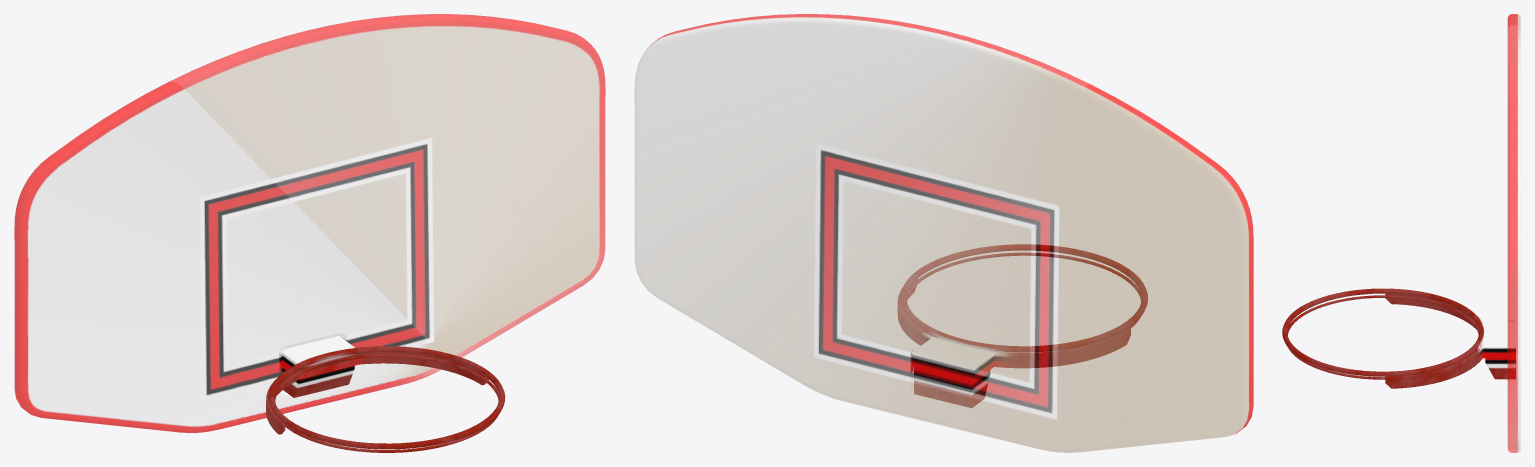
The model's file is hoop-webp.glb.
3 views of the same model, side by side, from view 1: azimuth 30°, elevation 25°; view 2: azimuth 150°, elevation 25°; view 3: azimuth 270°, elevation 25° (orthographic). The views are drawn at different scales.
Parts seen in each view (by area): view 1: backboard_mesh, rim_mesh, rim_mount_mesh, mount_bottom_mesh; view 2: backboard_mesh, rim_mount_mesh, rim_mesh, mount_bottom_mesh; view 3: backboard_mesh, rim_mesh, rim_mount_mesh, mount_bottom_mesh.
Boxes of the visible parts, x1,y1,x2,y2 form: backboard_mesh: [14, 14, 605, 432]; rim_mesh: [268, 346, 505, 452]; rim_mount_mesh: [266, 336, 488, 434]; mount_bottom_mesh: [282, 366, 354, 397]; backboard_mesh: [634, 14, 1253, 452]; rim_mount_mesh: [898, 279, 1130, 381]; rim_mesh: [900, 244, 1147, 352]; mount_bottom_mesh: [914, 362, 990, 407]; backboard_mesh: [1507, 14, 1520, 452]; rim_mesh: [1282, 288, 1484, 379]; rim_mount_mesh: [1385, 293, 1515, 388]; mount_bottom_mesh: [1485, 358, 1515, 379].
Bounding box in the file's own units: 136 × 82.97 × 56.2.
1 material, 1 textured.
